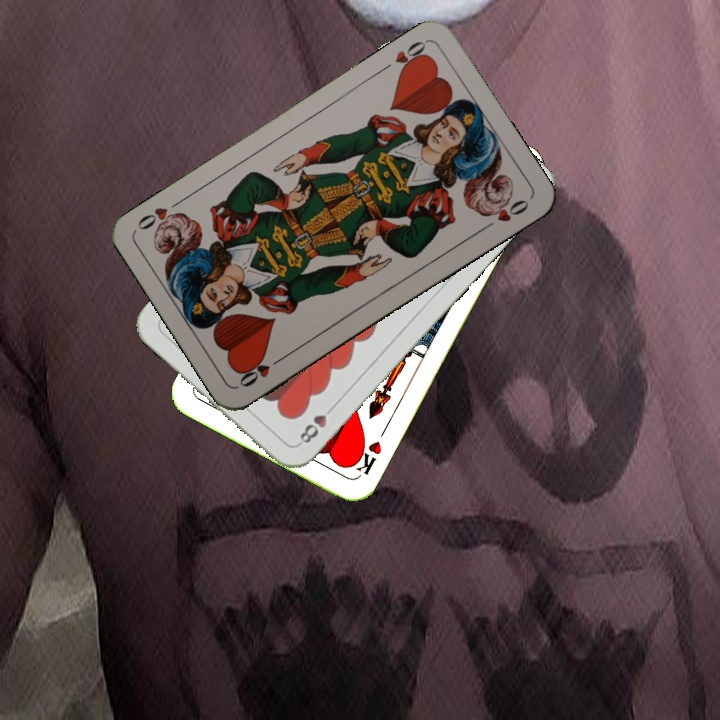H8: (294, 400, 338, 448)
HK: (347, 437, 385, 480)
HO: (376, 37, 432, 77), (235, 352, 287, 390)
